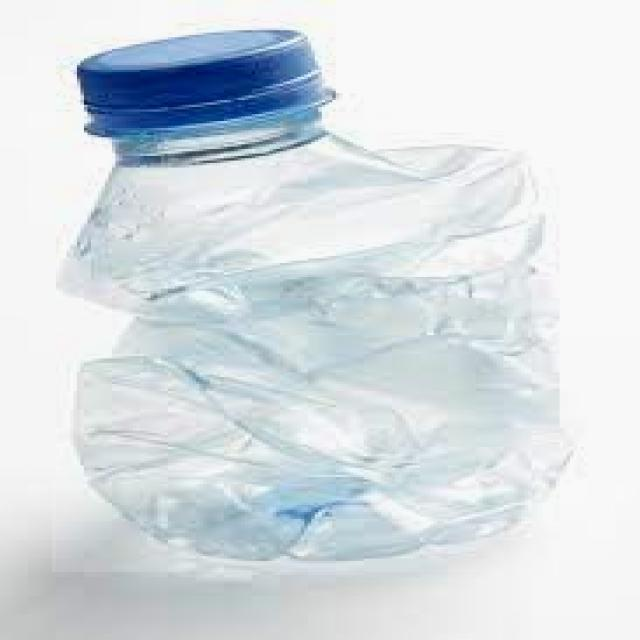bottle: (52, 20, 593, 572)
cap: (73, 28, 332, 137)
